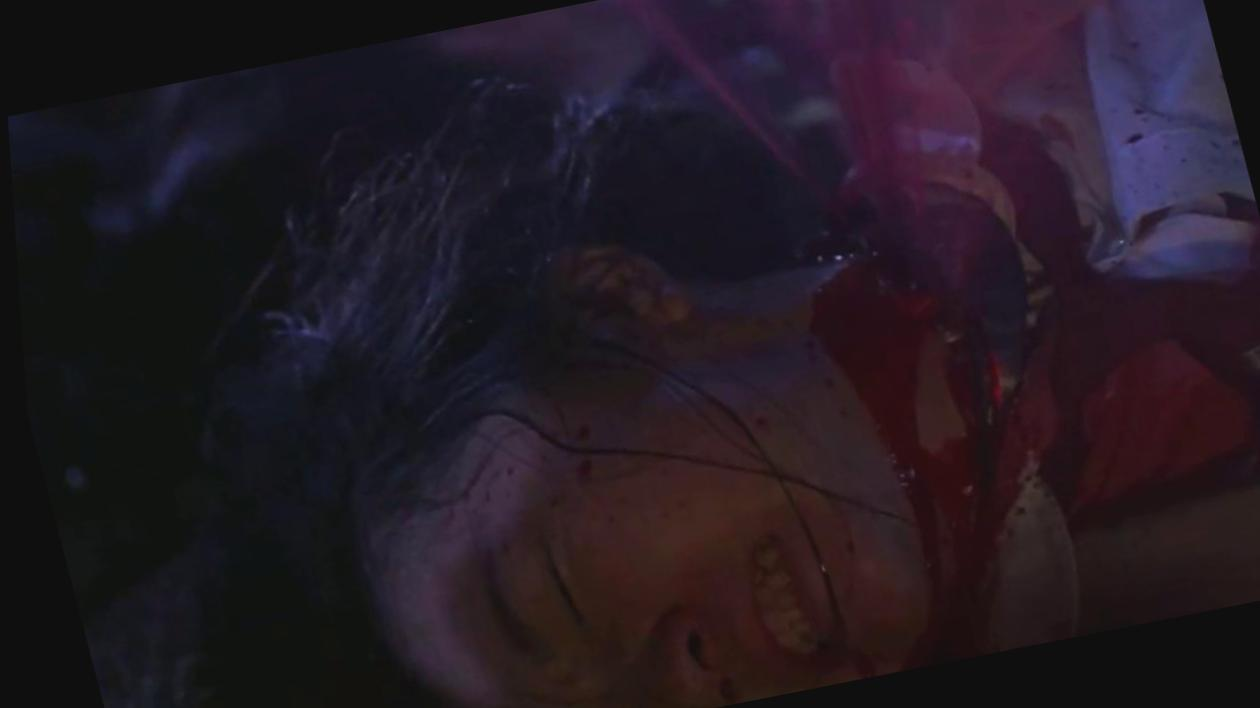Fire: (800, 0, 1260, 671), (476, 246, 802, 541)
